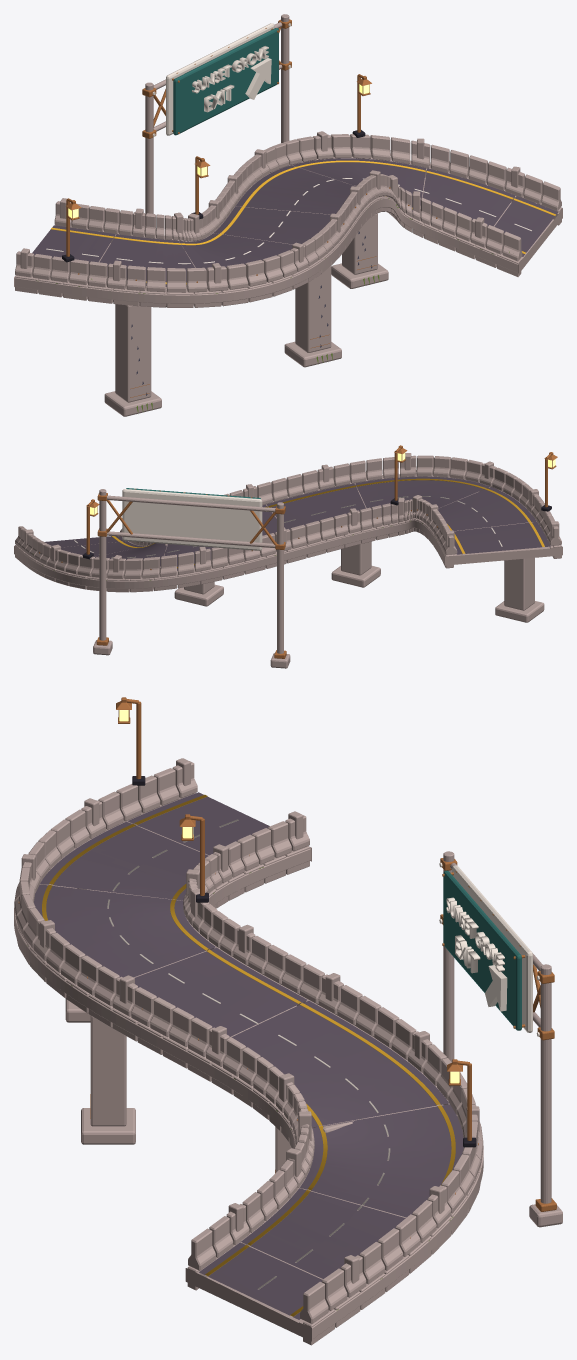
File: kit.highway-onramp.glb
The picture shows the model from 3 angles, top to bottom: view 1: azimuth 30°, elevation 25°; view 2: azimuth 150°, elevation 25°; view 3: azimuth 270°, elevation 25°; orthographic projection. The views are drawn at different scales.
Size of the model in its own units: 28.34 by 9.48 by 16.78.
